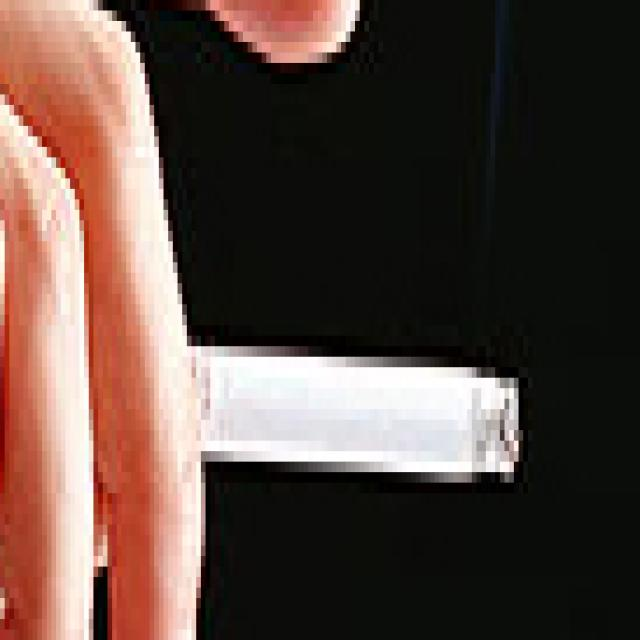smoking: (90, 343, 520, 484)
